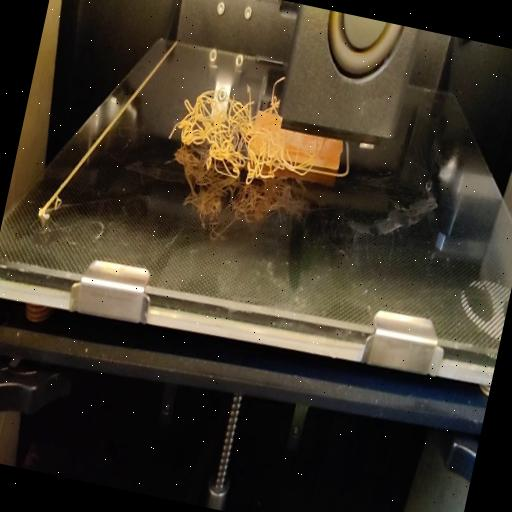spaghetti: (162, 58, 284, 200), (264, 114, 290, 184), (278, 131, 314, 181)
